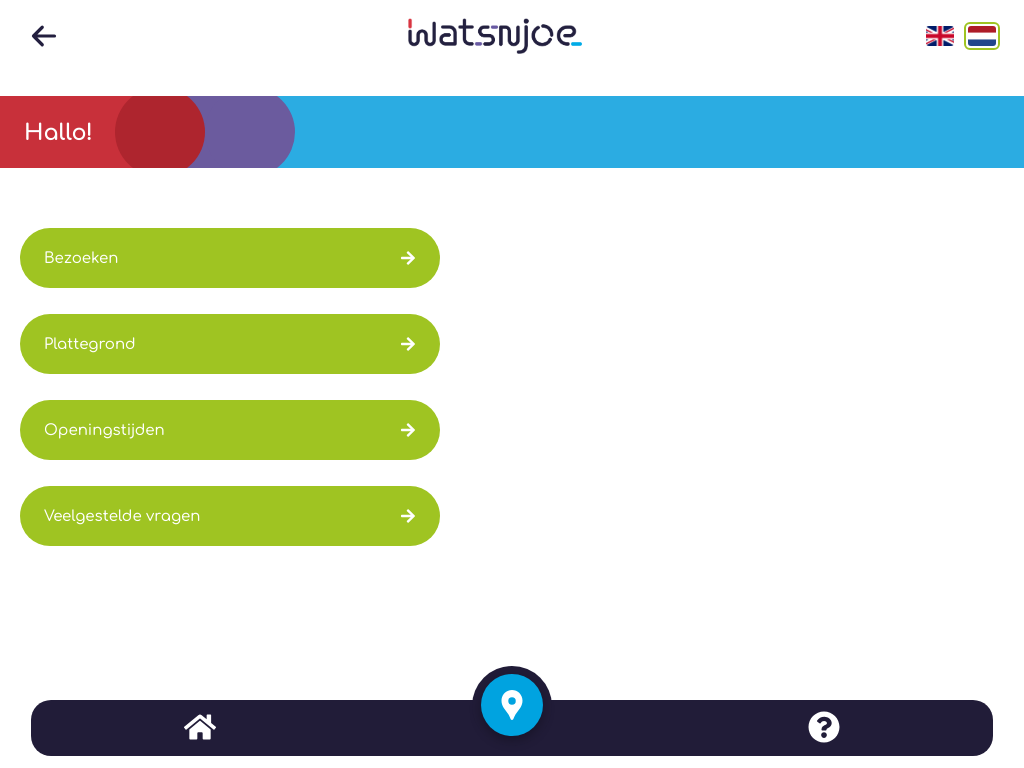
Test case: App - Home Page › Language toggle › switches all nav buttons to English
This screenshot has width=1024, height=768.
Click the button named "Switch to English" at (940, 36), box x1=922 y1=22 x2=958 y2=50
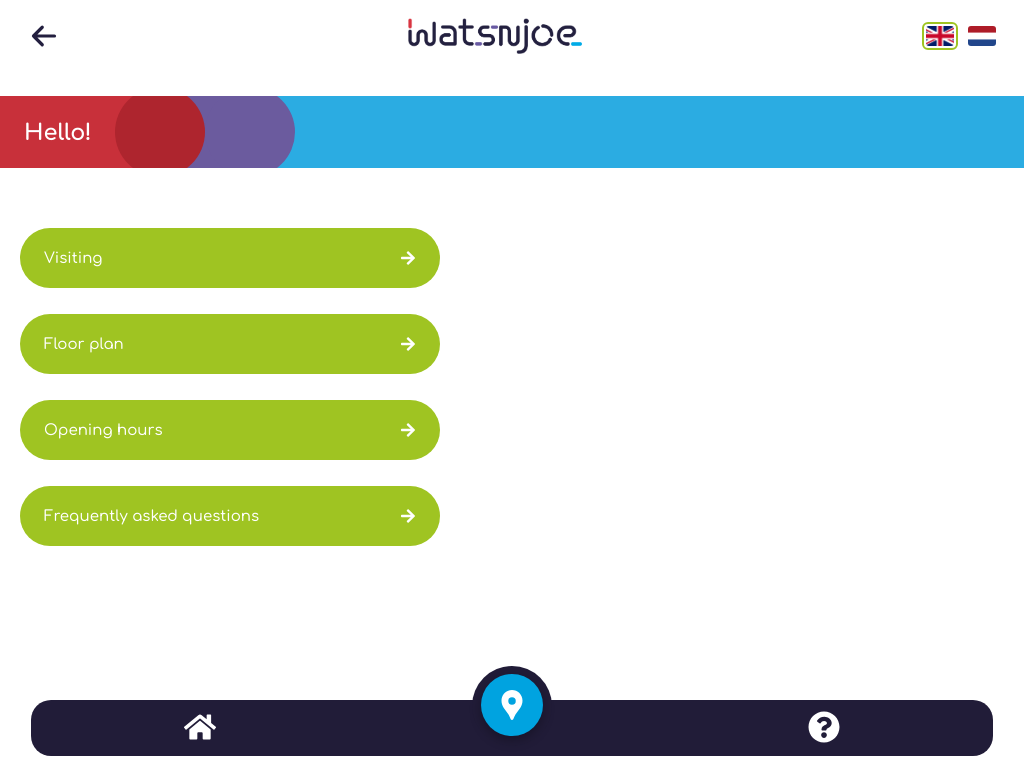
Result: the text "Hello!" is shown at x1=24 y1=120 x2=92 y2=144
Result: the link "Floor plan" is shown at x1=20 y1=314 x2=440 y2=374
Result: the link "Opening hours" is shown at x1=20 y1=400 x2=440 y2=460
